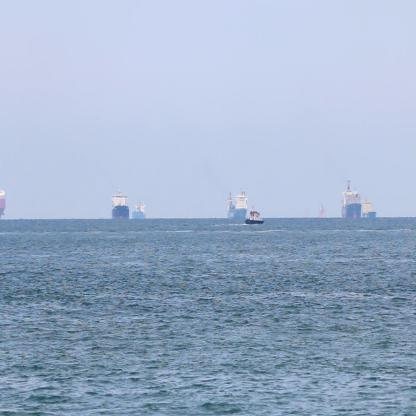Container Ship: (339, 178, 361, 221), (224, 187, 249, 223), (110, 184, 129, 224), (244, 207, 266, 227), (361, 196, 377, 223), (132, 200, 148, 225), (317, 202, 329, 221)
